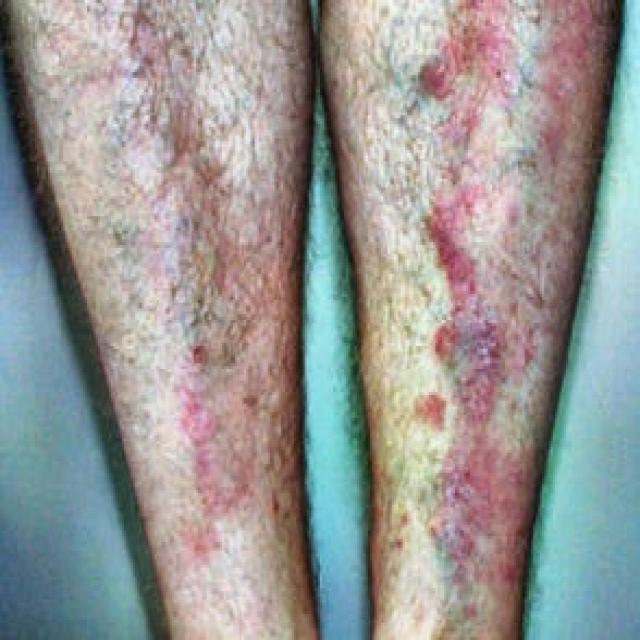Psoriasis-pictures-Lichen-Planus: (83, 20, 581, 578)
